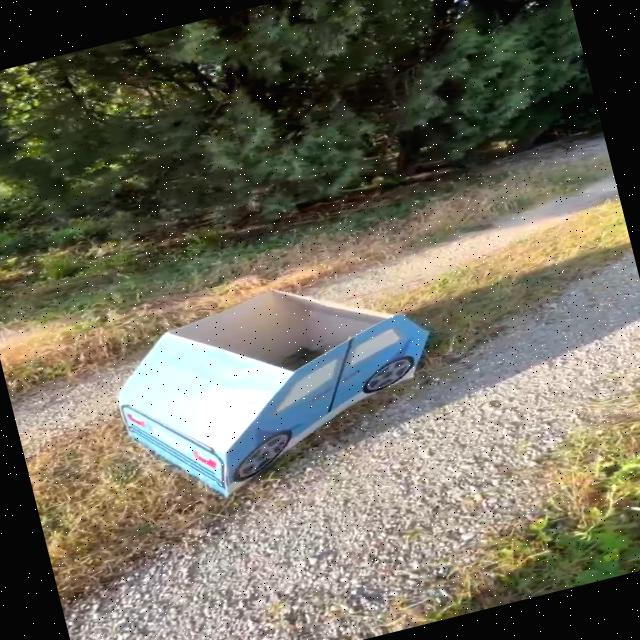blue_car: (40, 225, 499, 549)
